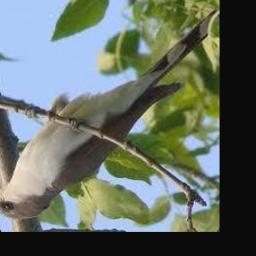Cuckoo: (0, 5, 220, 219)
